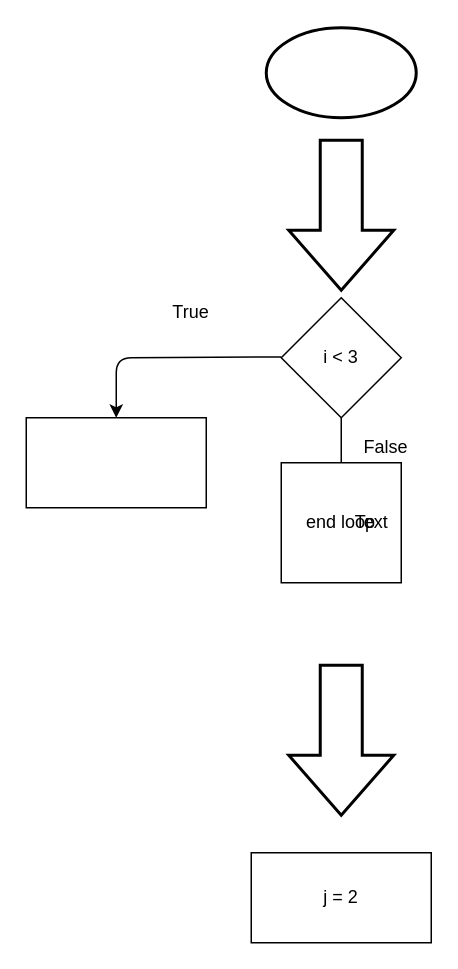
Some shapes in this 458 by 969 pixel diagram are drawn without their labels. The shapes that lost their labels are listed below. From the top down, each one's centre as x and y in pixels, then its label:
the point at 340,72: i = 0
the point at 115,462: print(i) i = i +2
